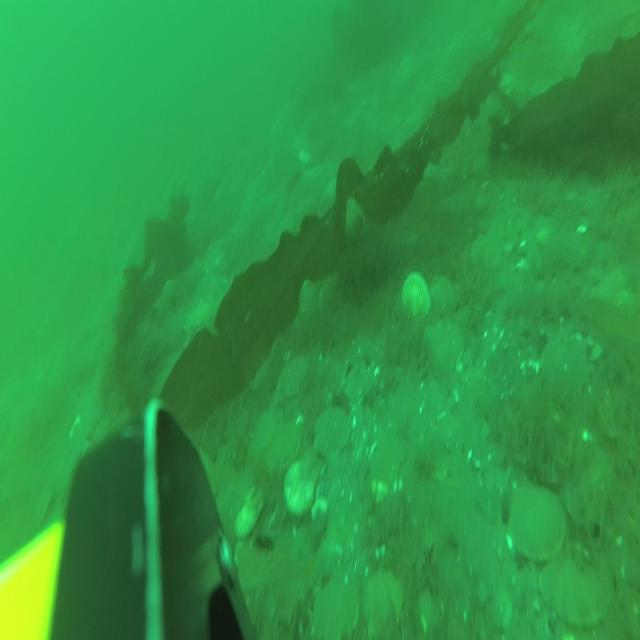scallop: (538, 547, 610, 626), (508, 479, 562, 565), (541, 336, 589, 410), (365, 561, 404, 640), (314, 572, 356, 640), (312, 404, 350, 464), (426, 321, 463, 382), (285, 454, 317, 519), (248, 407, 284, 464), (264, 423, 302, 472), (235, 491, 262, 546), (344, 360, 374, 409), (427, 273, 452, 326), (402, 273, 430, 319), (472, 234, 501, 273), (280, 357, 307, 397)
